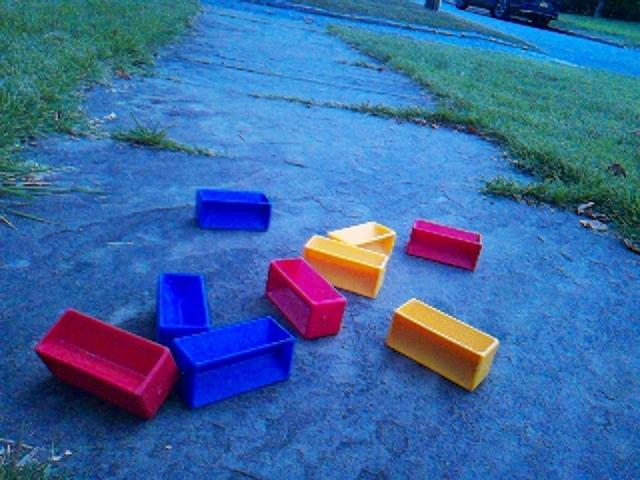blue: (172, 314, 296, 410), (155, 270, 212, 345), (194, 186, 273, 233)
red: (34, 306, 180, 420), (265, 255, 348, 340), (406, 217, 484, 272)
yellow: (384, 296, 500, 393), (303, 233, 389, 299), (328, 220, 397, 258)
